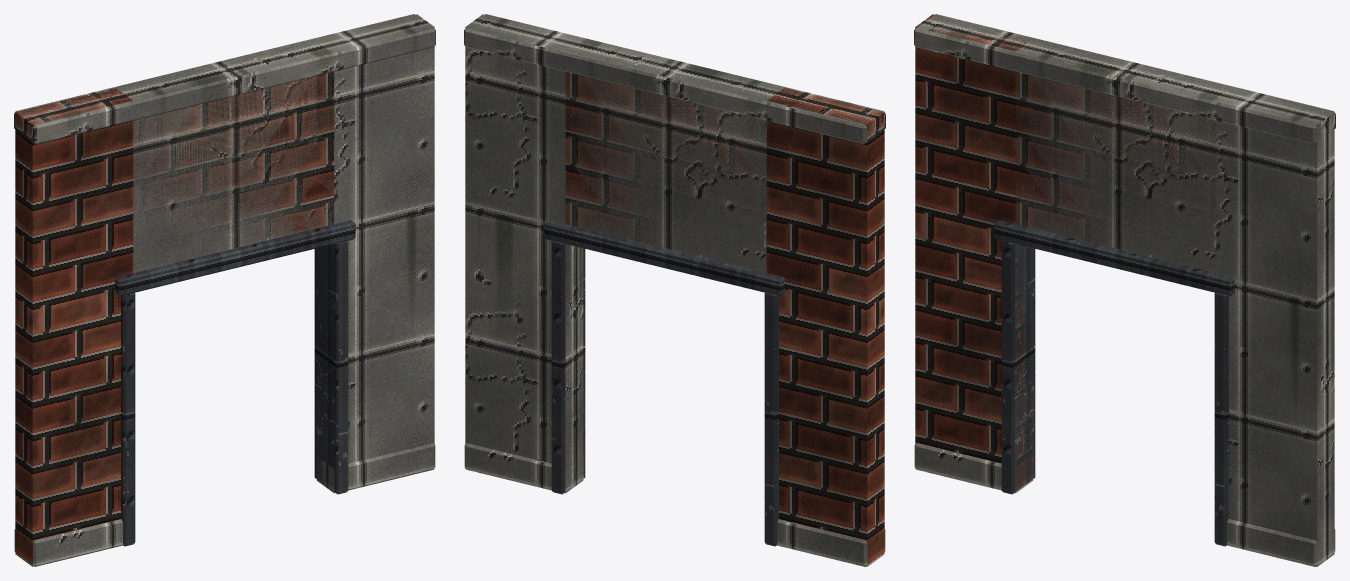
File: wall_brick_window.glb
3 renders of one model, left to right at view 1: azimuth 30°, elevation 25°; view 2: azimuth 150°, elevation 25°; view 3: azimuth 330°, elevation 25°, orthographic.
Visible parts, largest first — view 1: wall_brick_window_mesh, wall_brick_window_col-colonly.001, wall_brick_window_col-colonly.002; view 2: wall_brick_window_mesh, wall_brick_window_col-colonly.001, wall_brick_window_col-colonly.002; view 3: wall_brick_window_mesh, wall_brick_window_col-colonly.001, wall_brick_window_col-colonly.002.
Boxes of the visible parts, bbox=[...] form: wall_brick_window_mesh: bbox=[14, 14, 435, 566]; wall_brick_window_col-colonly.001: bbox=[316, 14, 434, 493]; wall_brick_window_col-colonly.002: bbox=[116, 39, 334, 272]; wall_brick_window_mesh: bbox=[464, 14, 885, 566]; wall_brick_window_col-colonly.001: bbox=[465, 14, 583, 493]; wall_brick_window_col-colonly.002: bbox=[565, 39, 783, 272]; wall_brick_window_mesh: bbox=[914, 14, 1335, 566]; wall_brick_window_col-colonly.001: bbox=[1216, 88, 1334, 566]; wall_brick_window_col-colonly.002: bbox=[1015, 39, 1233, 272].
Size of what is drawn, in the model's own units: 4 by 4.2 by 0.44.
3 materials, 3 textured.
